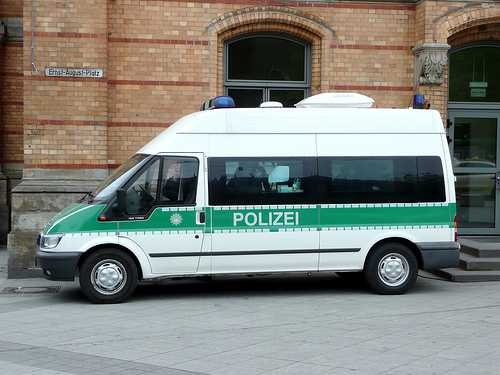Police Van: (27, 78, 468, 298)
